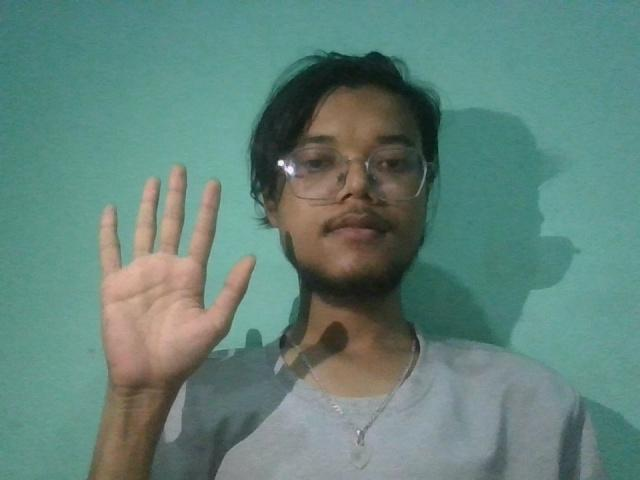hello: (74, 156, 267, 401)
